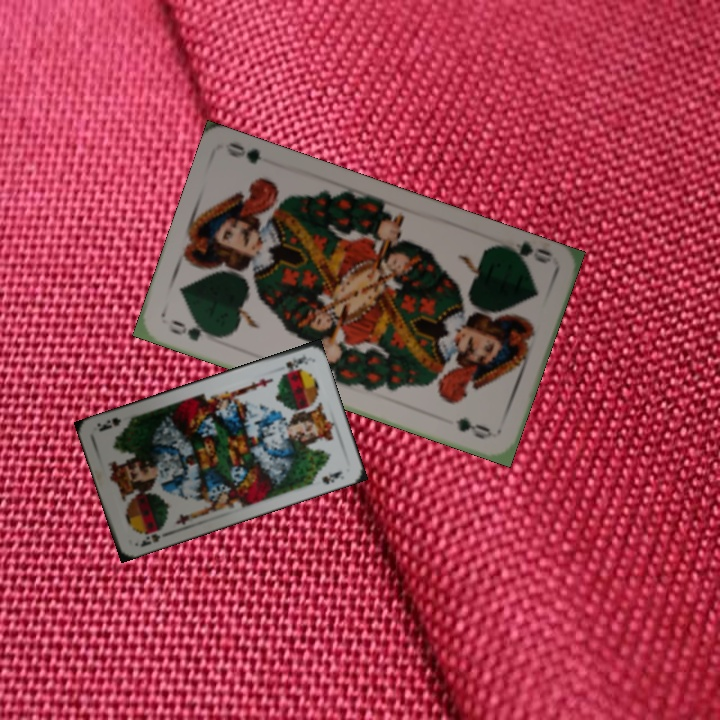GO: (497, 238, 555, 269), (164, 316, 221, 344)
SK: (282, 350, 311, 372), (136, 530, 163, 549)
